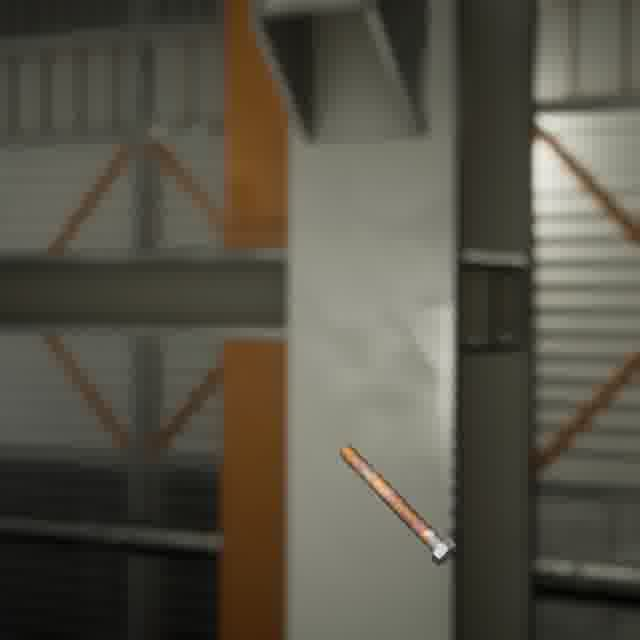bolt: (334, 439, 461, 569)
